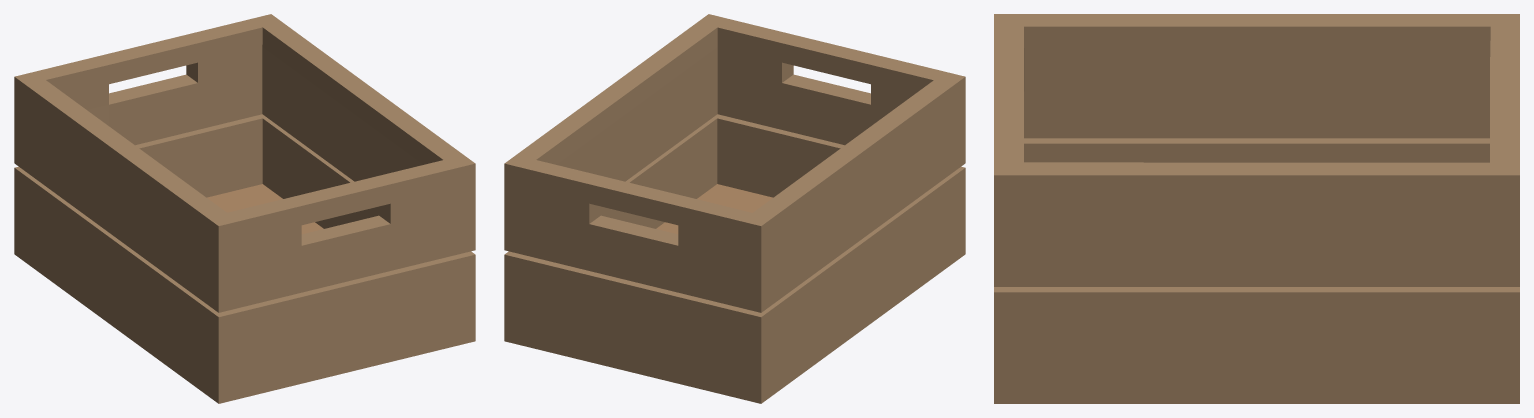
Rendered from DarkerBasket.fbx.
3 views of the same model, side by side, from view 1: azimuth 30°, elevation 25°; view 2: azimuth 150°, elevation 25°; view 3: azimuth 270°, elevation 25° (orthographic). The views are drawn at different scales.
Parts seen in each view (by area): view 1: Basket; view 2: Basket; view 3: Basket.
Boxes of the visible parts, x1=… form: Basket: x1=14, y1=14, x2=475, y2=403; Basket: x1=504, y1=14, x2=965, y2=403; Basket: x1=994, y1=14, x2=1519, y2=403.
Size of the model in its own units: 70.38 by 46.54 by 96.96.
